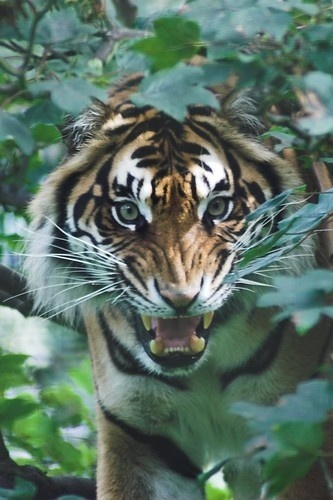tigre: (23, 97, 333, 494)
